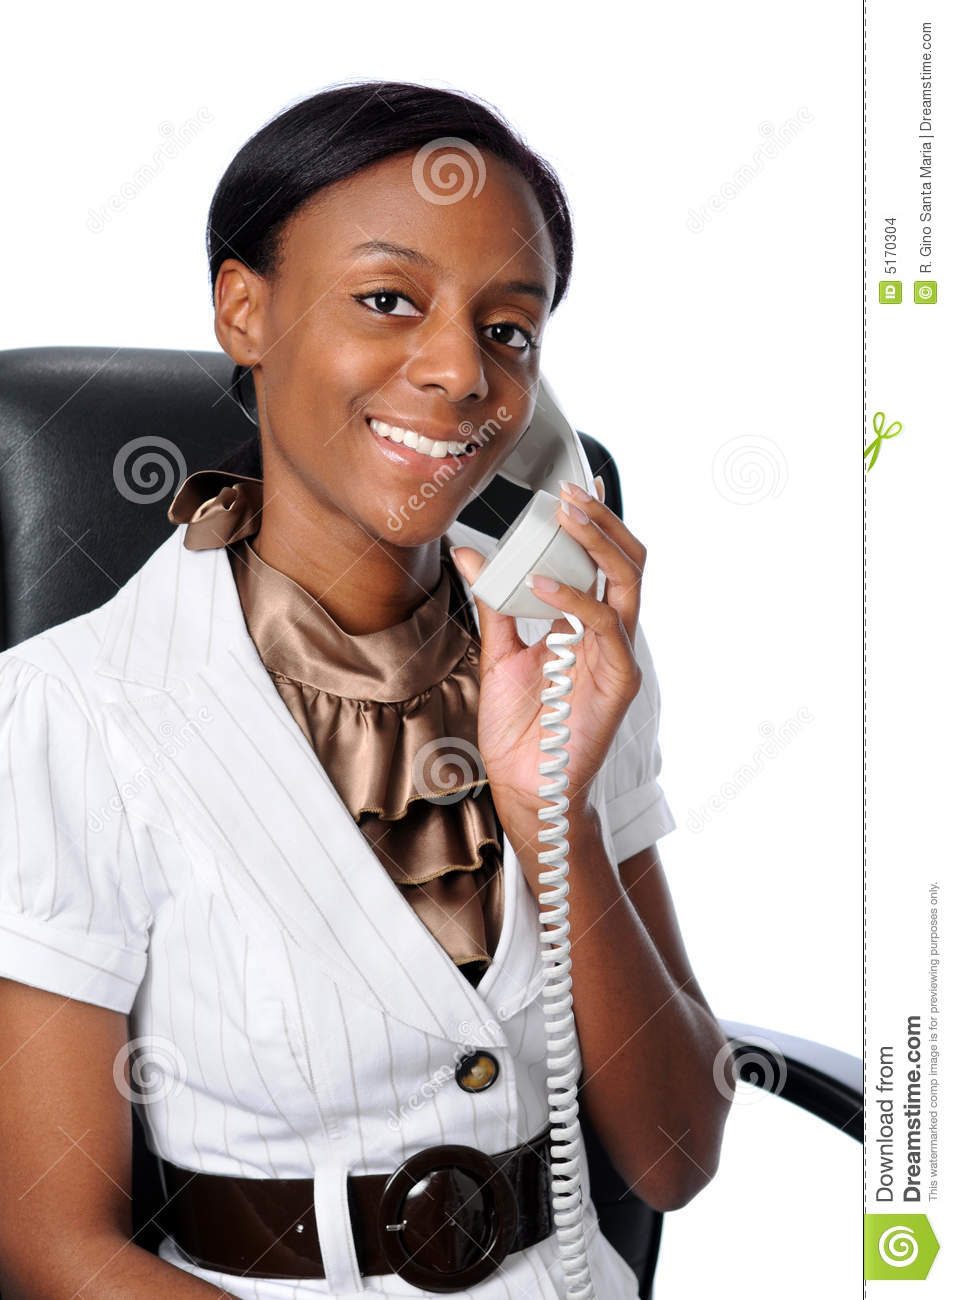phone: (480, 358, 606, 626)
talk: (330, 225, 648, 808)
